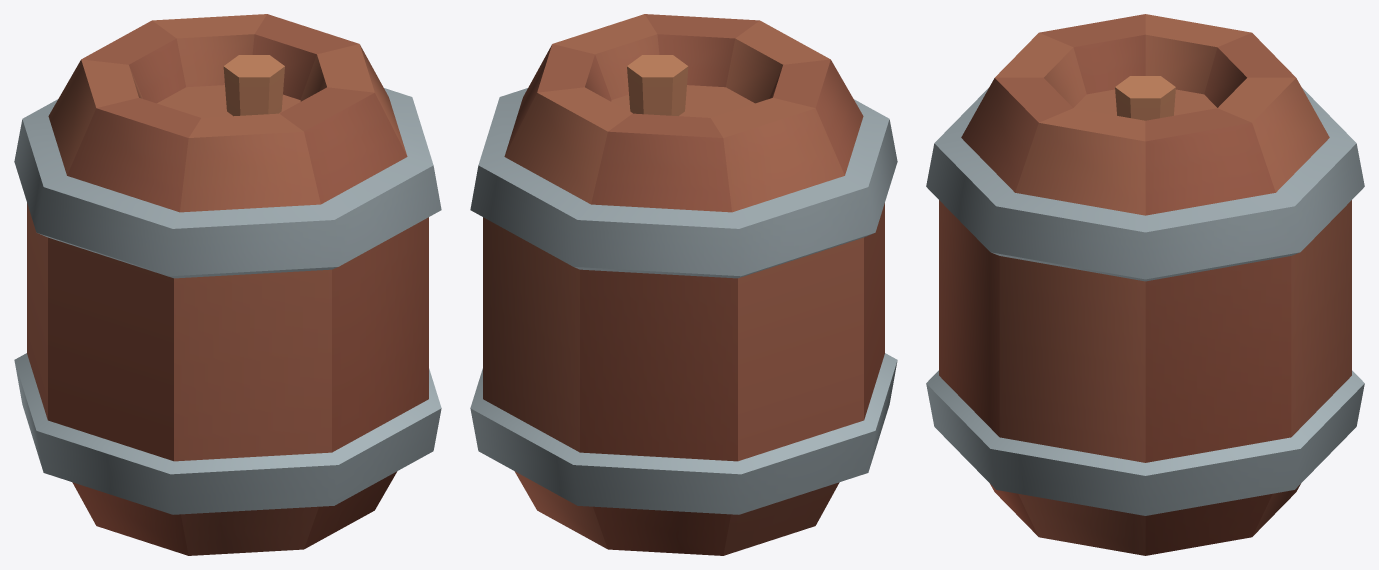
File: barrel.gltf
The picture shows the model from 3 angles, left to right: view 1: azimuth 30°, elevation 25°; view 2: azimuth 150°, elevation 25°; view 3: azimuth 270°, elevation 25°; orthographic projection.
Parts seen in each view (by area): view 1: barrel; view 2: barrel; view 3: barrel.
Part boxes in pixels (box(x1,y1,x2,y2)): barrel: box(14, 14, 441, 555); barrel: box(470, 14, 897, 555); barrel: box(926, 14, 1364, 555).
Bounding box in the file's own units: 0.2015 × 0.2117 × 0.2015.
1 material, 1 textured.
